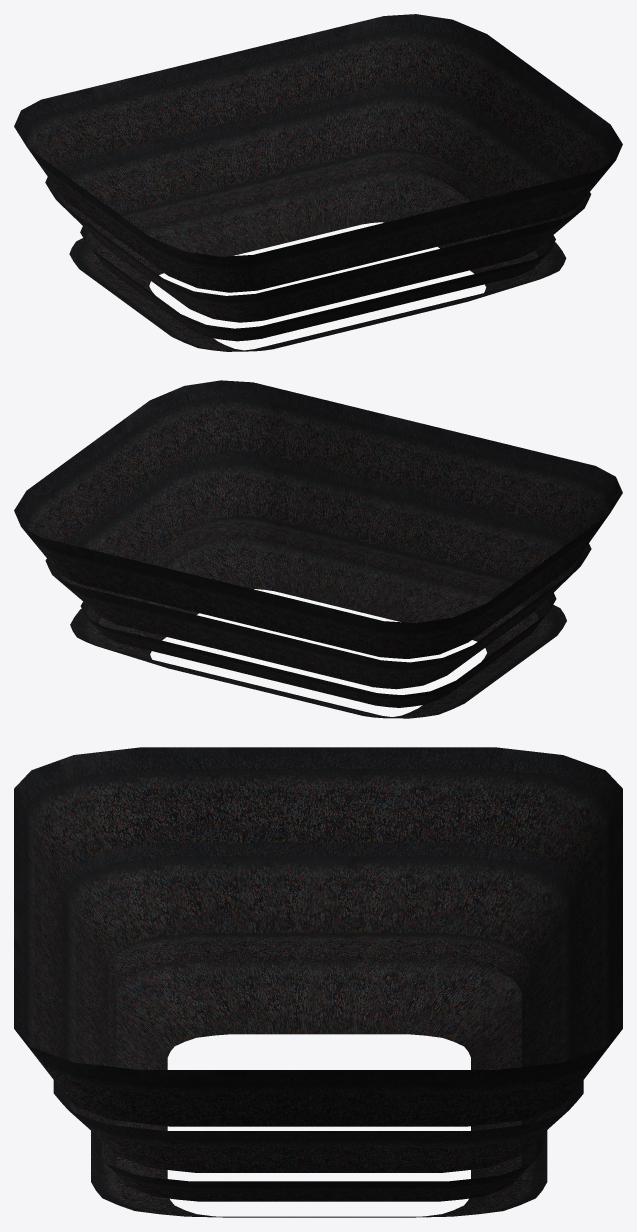
Rendered from grada.FBX.
3 views of the same model, one above another, from view 1: azimuth 30°, elevation 25°; view 2: azimuth 150°, elevation 25°; view 3: azimuth 270°, elevation 25° (orthographic). The views are drawn at different scales.
Parts seen in each view (by area): view 1: grada; view 2: grada; view 3: grada.
Boxes of the visible parts, box(x1,y1,x2,y2) form: grada: box(14, 14, 622, 351); grada: box(14, 380, 622, 718); grada: box(14, 747, 622, 1217).
Size of the model in its own units: 212 by 66.61 by 169.
